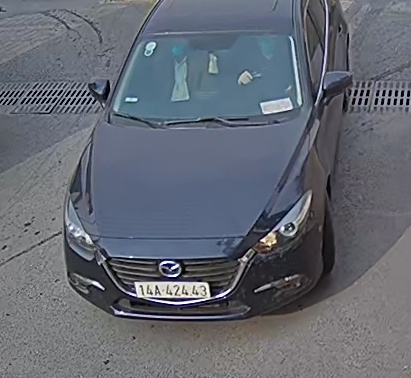vehicle plate: (132, 277, 214, 301)
